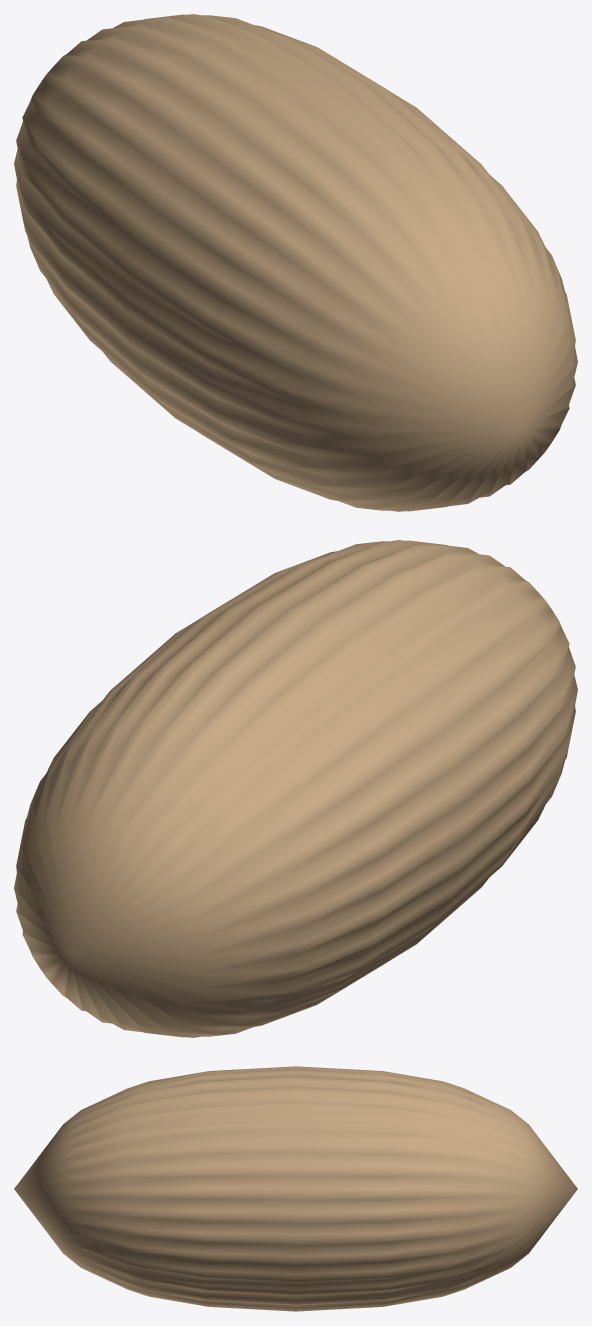
Rendered from steampunk_airship.glb.
The picture shows the model from 3 angles, top to bottom: view 1: azimuth 30°, elevation 25°; view 2: azimuth 150°, elevation 25°; view 3: azimuth 270°, elevation 25°; orthographic projection. The views are drawn at different scales.
Parts seen in each view (by area): view 1: Cylinder; view 2: Cylinder; view 3: Cylinder.
Part boxes in pixels (x1,y1,x2,y2): Cylinder: [14, 14, 577, 511]; Cylinder: [14, 540, 577, 1037]; Cylinder: [14, 1066, 577, 1311].
Bounding box in the file's own units: 0.7528 × 0.7528 × 1.73.
